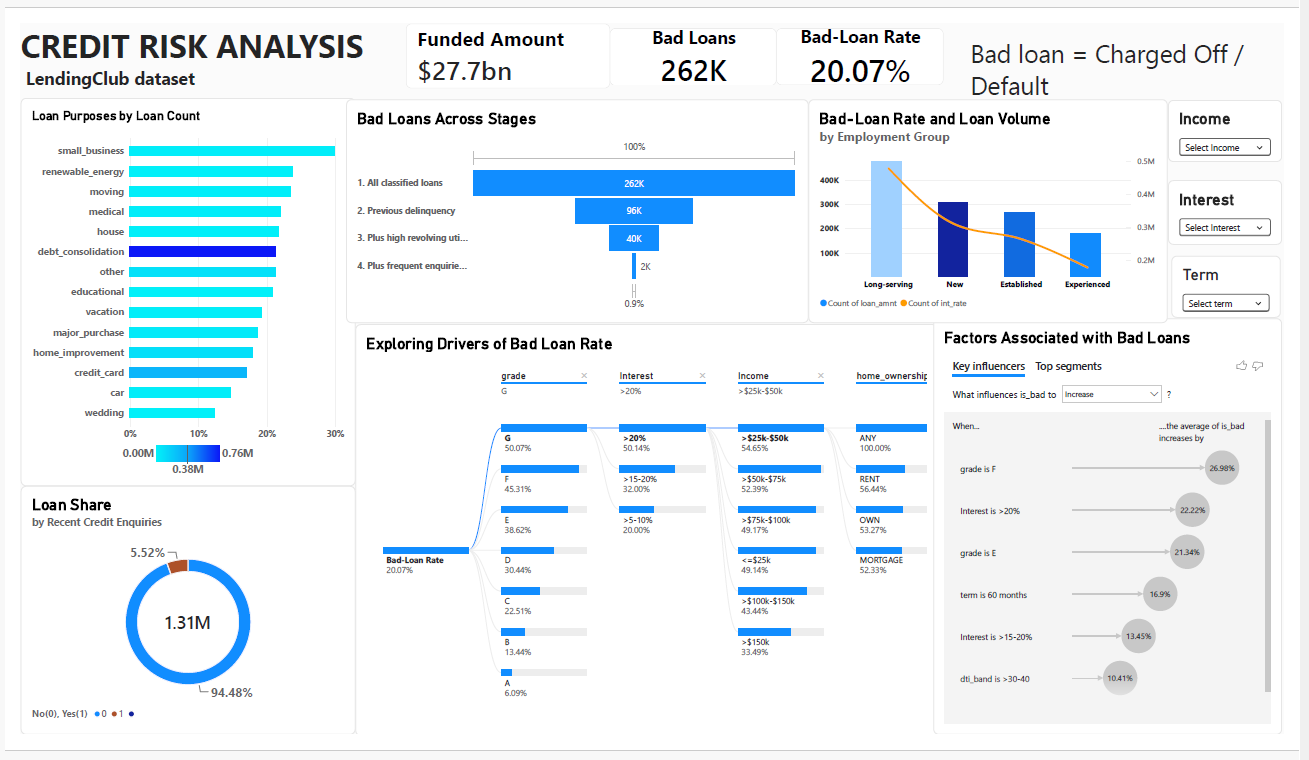

What the dashboard file says about the page in this screenshot:
{"tool":"powerbi","page":{"name":"Page 1","canvas":[1920,1080],"ordinal":0},"visuals":[{"type":"textbox","box":[0,0,569.7,112.5],"z":0},{"type":"cardVisual","fields":{"Data":["loan_risk_interactions.Bad-Loan Rate"]},"box":[1148.8,7,254.3,86],"z":1000},{"type":"cardVisual","fields":{"Data":["loan_risk_interactions.Confirmed Bad Loans"]},"box":[895.6,7,253.2,86.7],"z":2000},{"type":"clusteredBarChart","title":" Loan Purposes by Loan Count","fields":{"Category":["credit_risk_investigations.purpose"],"Y":["credit_risk_investigations.Bad Loan Rate"]},"box":[0,112.5,508.8,590.8],"z":3000},{"type":"decompositionTreeVisual","title":"Exploring Drivers of Bad Loan Rate","fields":{"Analyze":["loan_risk_interactions.Bad-Loan Rate"],"ExplainBy":["loan_risk_interactions.grade","loan_risk_interactions.interest_band","loan_risk_interactions.income_band","loan_risk_interactions.home_ownership","loan_risk_interactions.term","loan_risk_interactions.dti_band"]},"box":[508.8,457.2,886.2,626],"z":4000},{"type":"keyDriversVisual","title":"Factors Associated with Bad Loans","fields":{"ExplainBy":["loan_risk_interactions.grade","loan_risk_interactions.term","loan_risk_interactions.interest_band","loan_risk_interactions.dti_band","loan_risk_interactions.income_band","loan_risk_interactions.home_ownership"],"Target":["loan_risk_interactions.is_bad"]},"box":[1387.9,447.8,529.9,633],"z":5000},{"type":"funnel","title":"Bad Loans Across Stages","fields":{"Category":["high_risk_screening_funnel.Stage Display"],"Y":["Sum(high_risk_screening_funnel.bad_loan_count)"]},"box":[494.7,114.9,703.3,339.9],"z":6000},{"type":"listSlicer","title":"Income","fields":{"Values":["loan_risk_interactions.income_band"]},"box":[1744.9,116.3,173.5,93.8],"z":6000,"group":"g1"},{"type":"lineClusteredColumnComboChart","title":"Bad-Loan Rate and Loan Volume","fields":{"Category":["credit_risk_investigations.Employment Group"],"Y":["CountNonNull(credit_risk_investigations.loan_amnt)"],"Y2":["CountNonNull(credit_risk_investigations.int_rate)"]},"box":[1198,114.9,546.3,339.9],"z":7000},{"type":"listSlicer","title":"Term","fields":{"Values":["loan_risk_interactions.term"]},"box":[1749.6,353.1,166.5,93.8],"z":7000,"group":"g1"},{"type":"listSlicer","title":"Interest","fields":{"Values":["loan_risk_interactions.interest_band"]},"box":[1744.9,238.2,173.5,98.5],"z":8000,"group":"g1"},{"type":"donutChart","title":"Loan Share","fields":{"Category":["credit_risk_investigations.high_enquiries_6m"],"Y":["CountNonNull(credit_risk_investigations.loan_status)"]},"box":[0,703.3,508.8,377.5],"z":8000},{"type":"cardVisual","fields":{"Data":["Sum(high_risk_screening_funnel.funded_amount)"]},"box":[586.1,0,309.5,98.5],"z":9000},{"type":"textbox","box":[1444.2,0,473.6,117.2],"z":10000},{"type":"group","id":"g1","title":"Group 1","box":[1744.9,116.3,176.5,332.9],"z":11000}]}

Visuals, with their boxes on the page's 1920x1080 design canvas (x1, y1, x2, y2). These are canvas units, not pixel positions in the 1309x760 screenshot, which may show the page scaled, cropped or inside an application window:
textbox: <box>0,0,570,112</box>
cardVisual - loan_risk_interactions.Bad-Loan Rate: <box>1149,7,1403,93</box>
cardVisual - loan_risk_interactions.Confirmed Bad Loans: <box>896,7,1149,94</box>
" Loan Purposes by Loan Count" clusteredBarChart: <box>0,112,509,703</box>
"Exploring Drivers of Bad Loan Rate" decompositionTreeVisual: <box>509,457,1395,1083</box>
"Factors Associated with Bad Loans" keyDriversVisual: <box>1388,448,1918,1081</box>
"Bad Loans Across Stages" funnel: <box>495,115,1198,455</box>
"Income" listSlicer: <box>1745,116,1918,210</box>
"Bad-Loan Rate and Loan Volume" lineClusteredColumnComboChart: <box>1198,115,1744,455</box>
"Term" listSlicer: <box>1750,353,1916,447</box>
"Interest" listSlicer: <box>1745,238,1918,337</box>
"Loan Share" donutChart: <box>0,703,509,1081</box>
cardVisual - Sum(high_risk_screening_funnel.funded_amount): <box>586,0,896,98</box>
textbox: <box>1444,0,1918,117</box>
"Group 1" group: <box>1745,116,1921,449</box>
